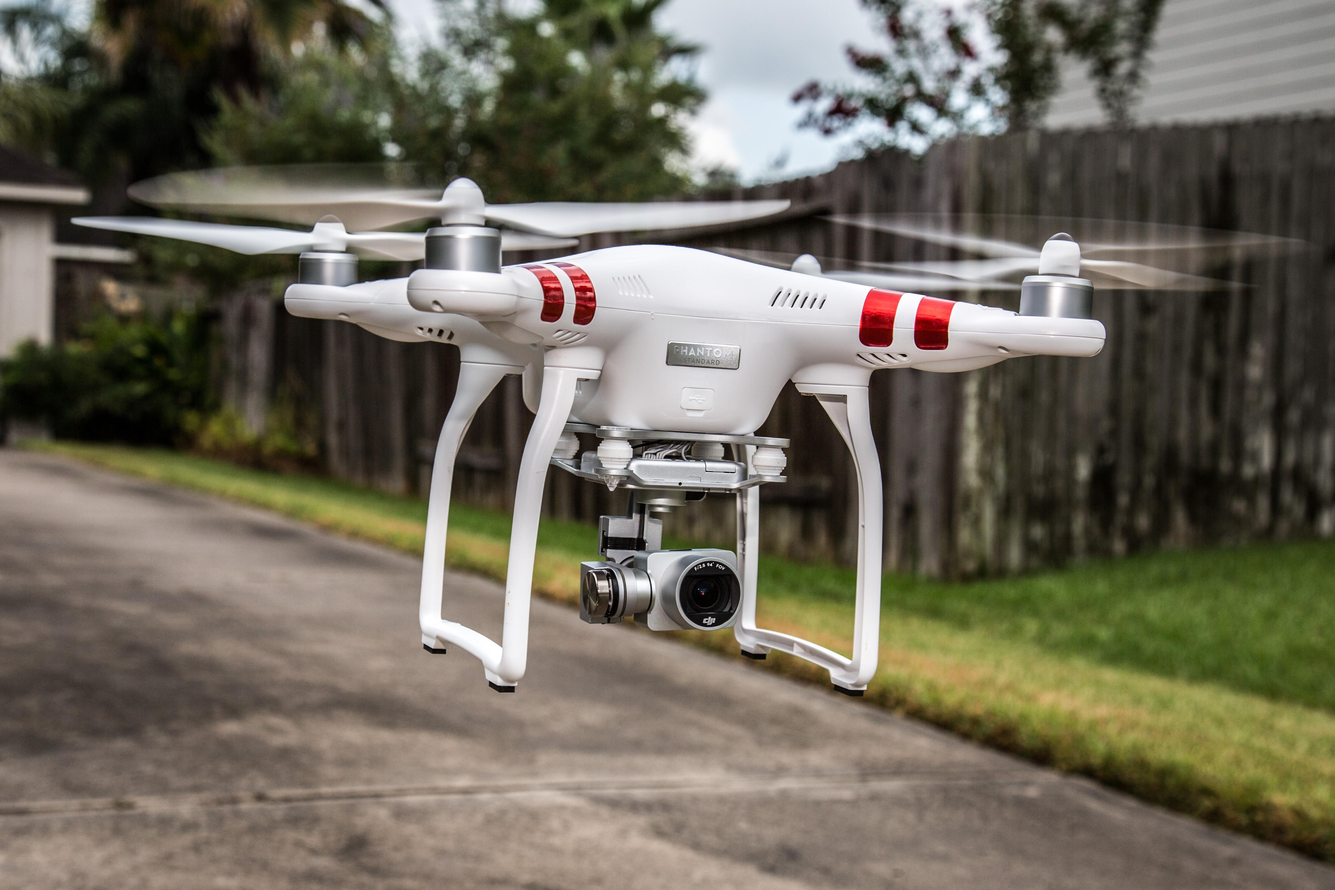aircraft: (29, 168, 1202, 699)
